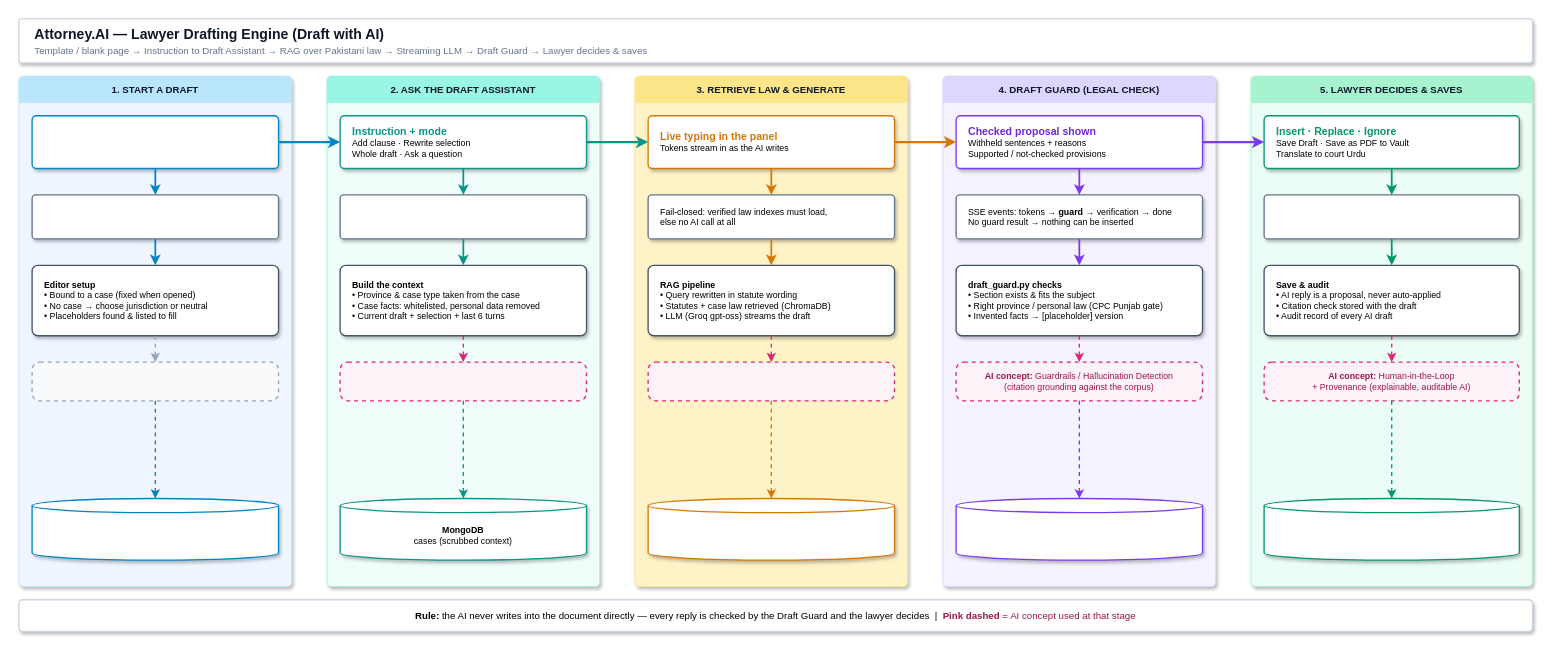
The diagram is 1554 pixels wide and 654 high, and some of its shapes have lost their labels. Here are the shapes that lost their labels. From the top down, the centre of each, then its label:
the point at 156,143: Drafting home 44 templates (preview / edit) or Draft with AI on a blank page
the point at 156,217: Templates = HTML in the frontend (generated from real Word .docx files)
the point at 464,217: POST /ai/draft/stream (Server-Sent Events, lawyer only)
the point at 1392,217: POST /documents/drafts POST /documents/v2 + /{id}/generate (PDF)
the point at 155,381: No AI yet — sets the context (case + jurisdiction) for the AI
the point at 463,381: AI concept: Context Engineering (prompt built from case + draft + history)
the point at 771,381: AI concept: Retrieval-Augmented Generation + Query Rewriting + Streaming LLM
the point at 156,530: MongoDB cases (lawyer's own)
the point at 772,530: ChromaDB statute identity indexes · case law
the point at 1080,530: Corpus section index (which sections each Act really has)
the point at 1392,530: MongoDB doc_drafts · documents · answer_provenance
